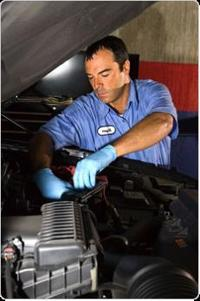person: (35, 35, 180, 200)
